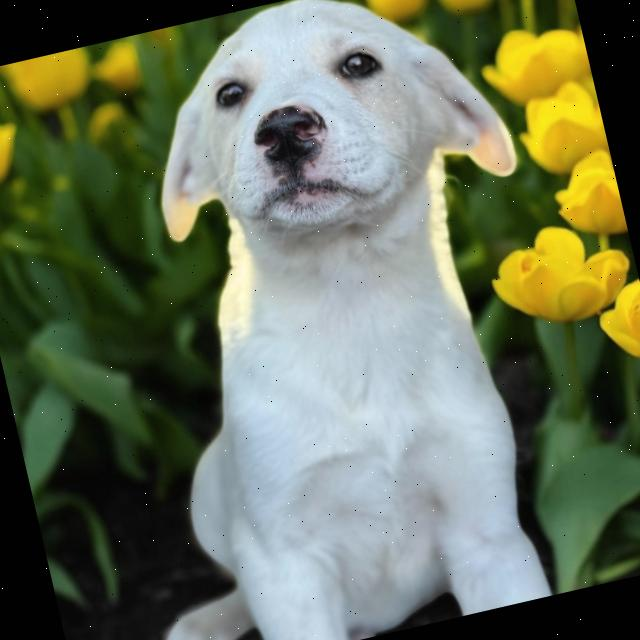labrador_retriever_dog: (86, 0, 553, 320)
